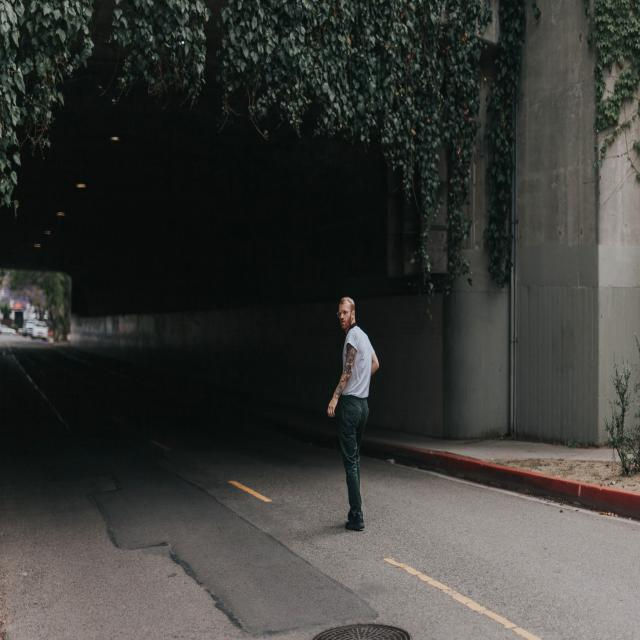adult: (324, 296, 382, 530)
